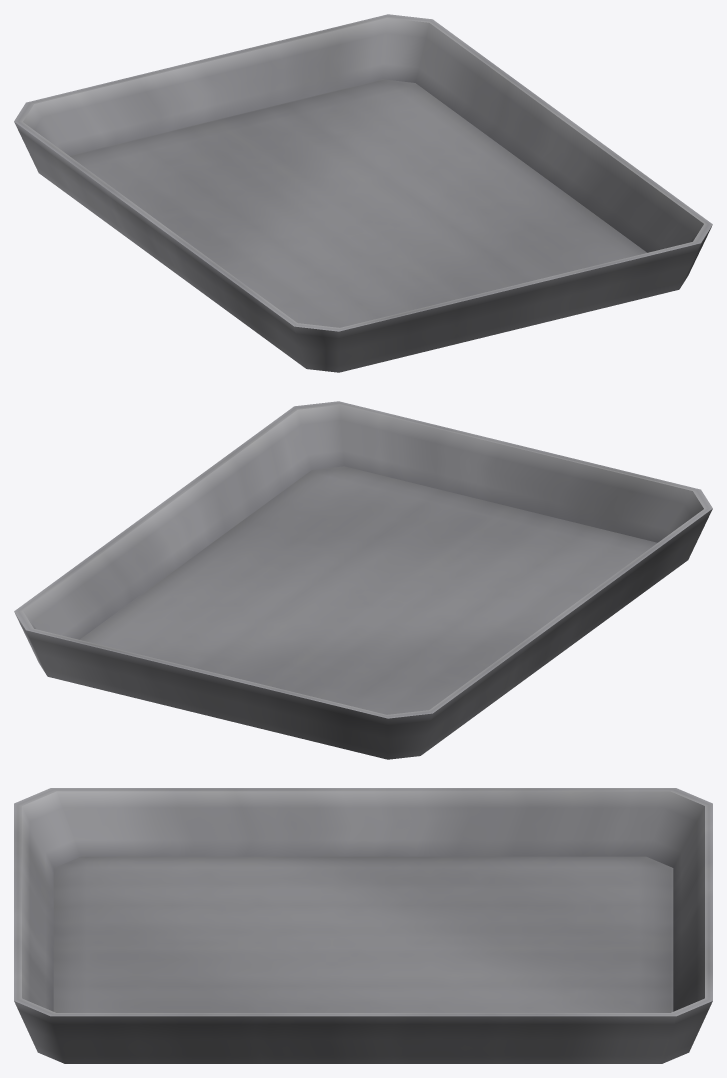
The model's file is KR_Steel_tray_01_03.fbx.
3 views of the same model, one above another, from view 1: azimuth 30°, elevation 25°; view 2: azimuth 150°, elevation 25°; view 3: azimuth 270°, elevation 25° (orthographic). The views are drawn at different scales.
Visible parts, largest first — view 1: kr_steel_tray_01_03; view 2: kr_steel_tray_01_03; view 3: kr_steel_tray_01_03.
Boxes of the visible parts, left/top/right/bottom form: kr_steel_tray_01_03: left=14, top=14, right=712, bottom=372; kr_steel_tray_01_03: left=14, top=401, right=712, bottom=759; kr_steel_tray_01_03: left=14, top=788, right=712, bottom=1063.
Size of the model in its own units: 17 by 2 by 22.
